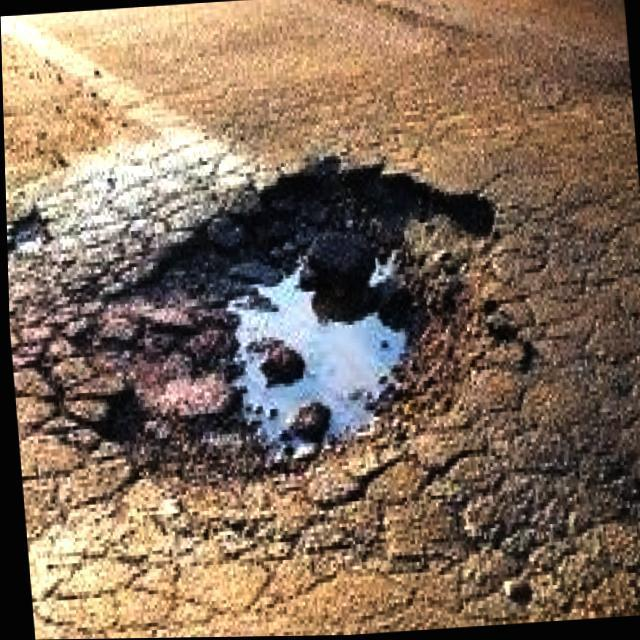Pothole: (49, 169, 481, 478)
